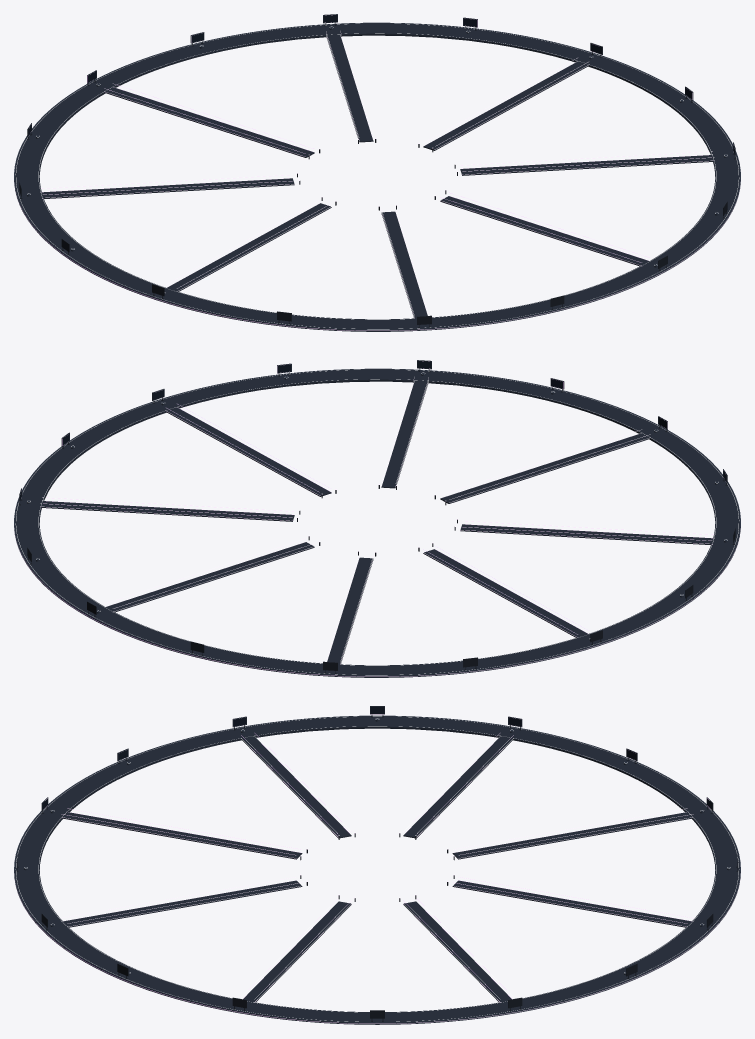
3 renders of one model, top to bottom at view 1: azimuth 30°, elevation 25°; view 2: azimuth 150°, elevation 25°; view 3: azimuth 270°, elevation 25°, orthographic.
Parts seen in each view (by area): view 1: nexo_community_ring.lod1; view 2: nexo_community_ring.lod1; view 3: nexo_community_ring.lod1.
Boxes of the visible parts, box(x1,y1,x2,y2) form: nexo_community_ring.lod1: box(14, 14, 740, 331); nexo_community_ring.lod1: box(14, 360, 740, 677); nexo_community_ring.lod1: box(14, 706, 740, 1024).
Bounding box in the file's own units: 201 × 5.57 × 201.
